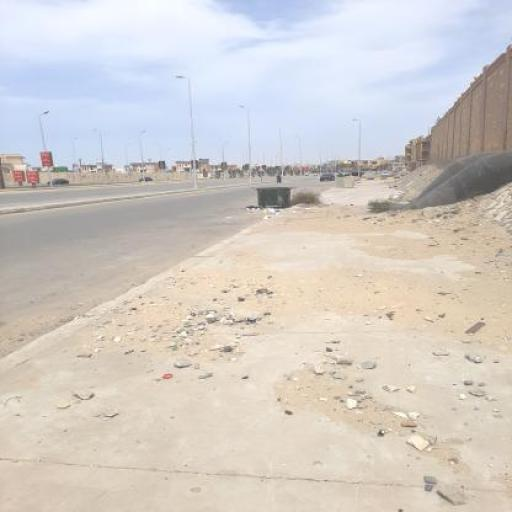street light: (176, 76, 199, 188), (38, 111, 54, 189), (239, 106, 252, 183), (92, 129, 107, 183), (352, 119, 361, 179), (293, 136, 303, 178), (139, 131, 147, 182), (73, 136, 80, 182), (223, 143, 229, 179)
